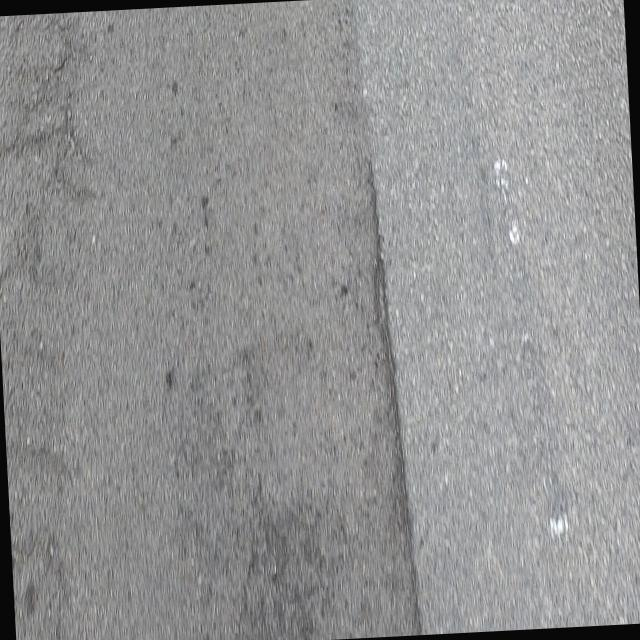Retak-Memanjang: (365, 162, 428, 635)
